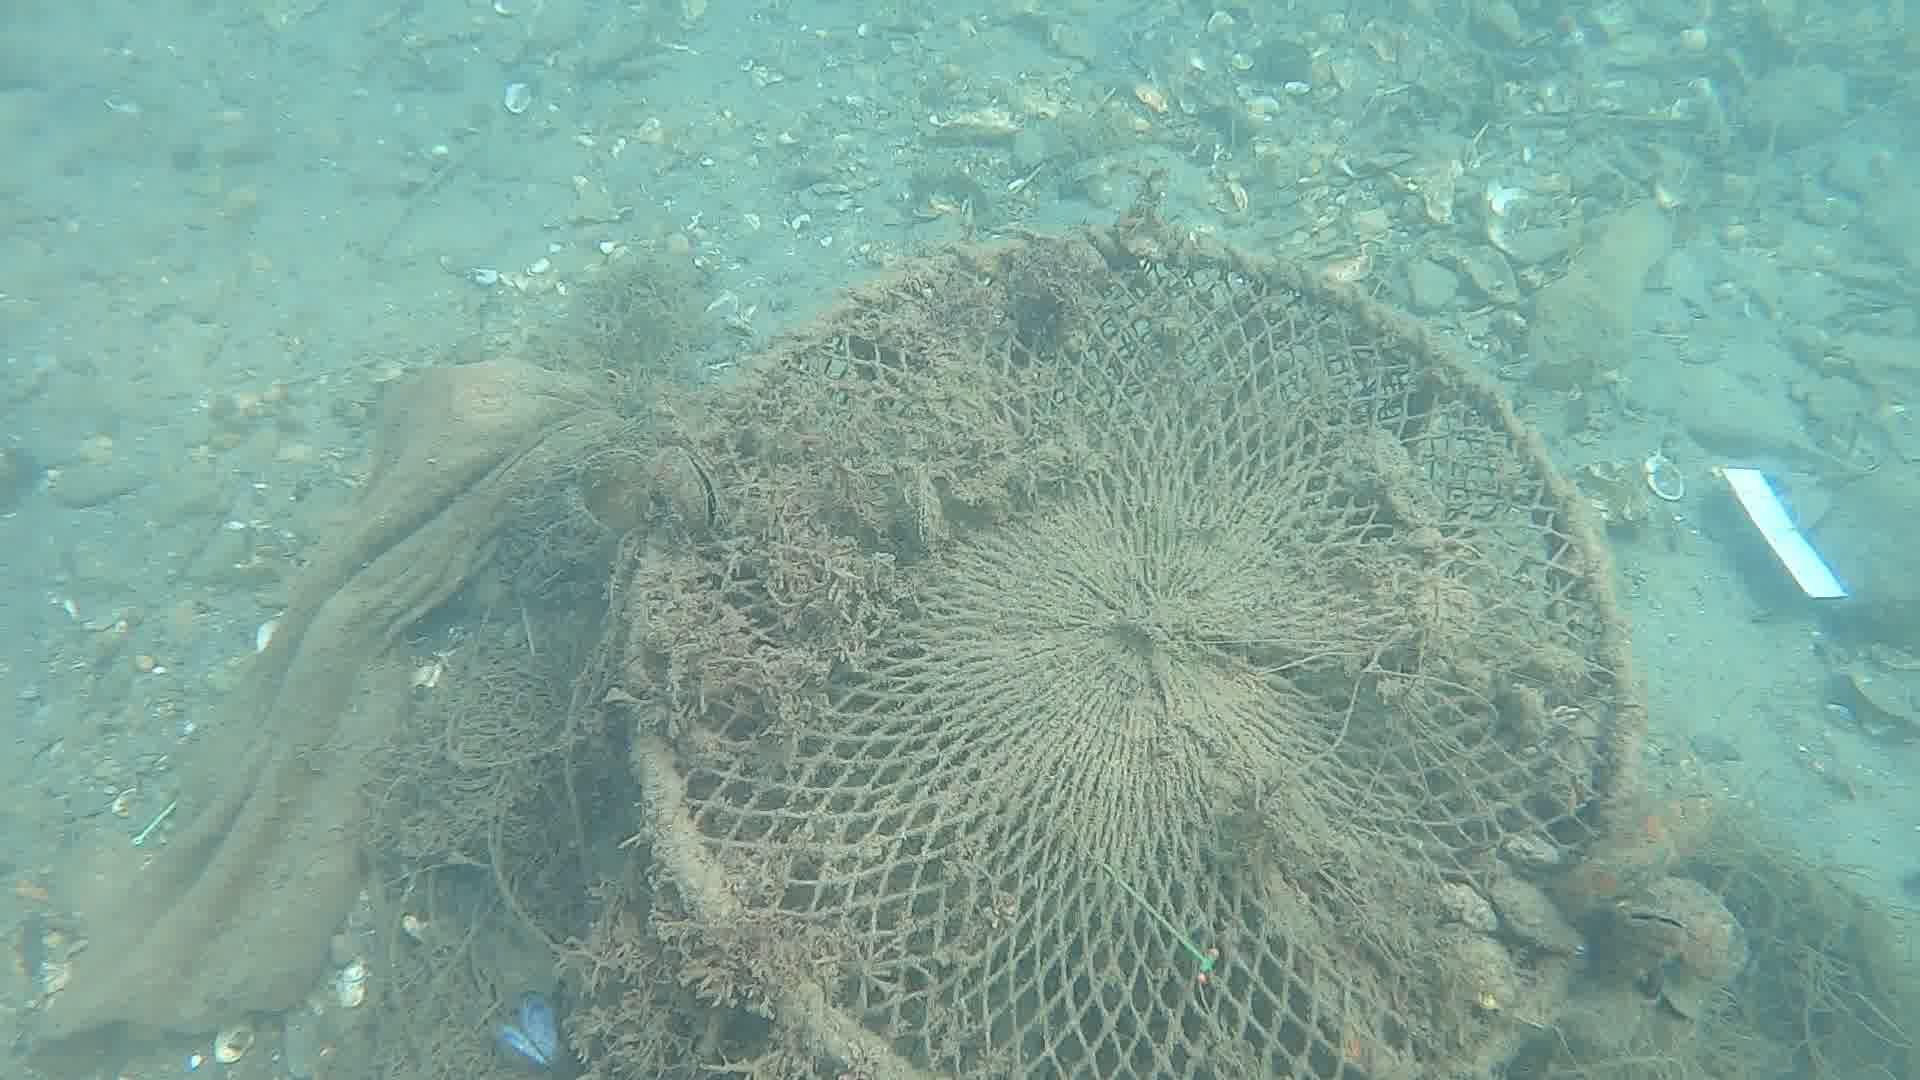circular fish trap: (620, 222, 1642, 1080)
